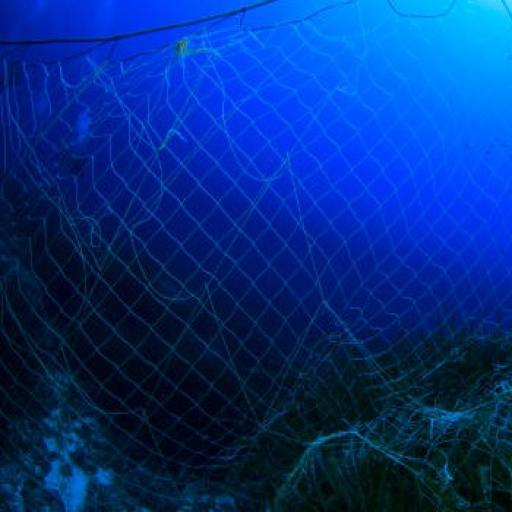net: (0, 1, 512, 511)
